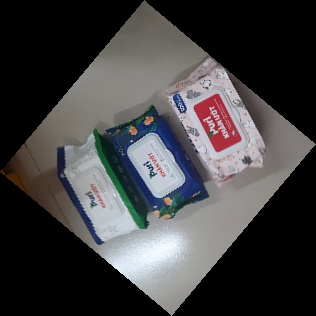Puri Trang: (55, 128, 150, 247)
Puri Xanh: (103, 105, 212, 232)
Puri hong: (162, 55, 268, 188)
